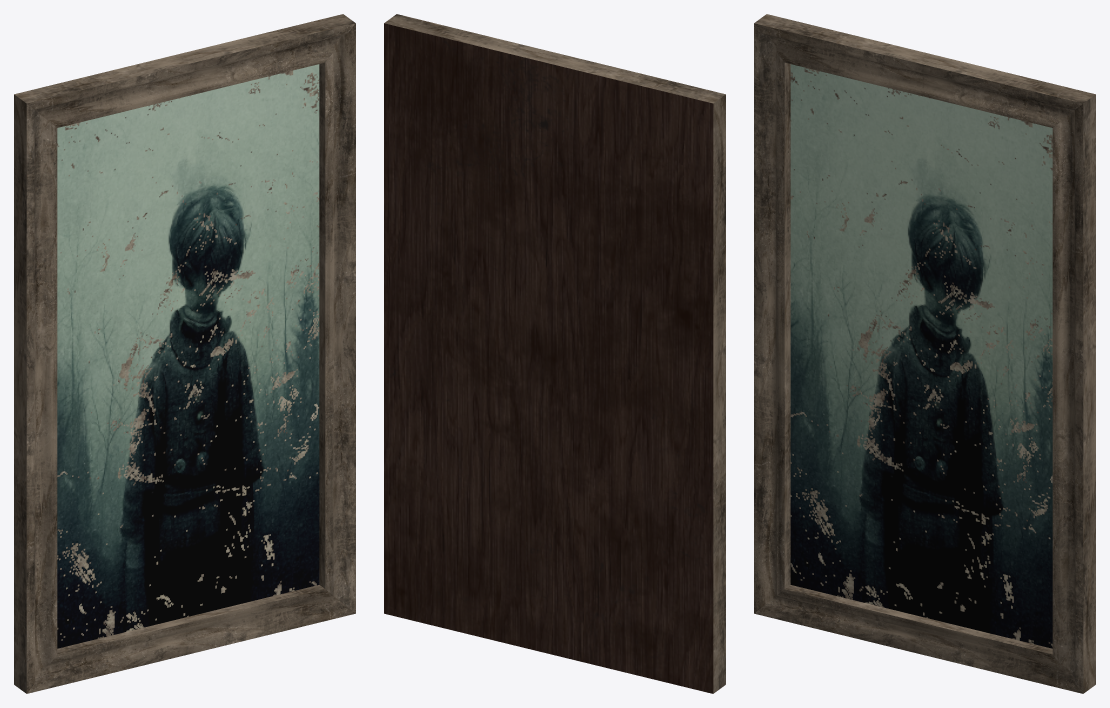
The model's file is SM_Painting_03.fbx.
3 views of the same model, side by side, from view 1: azimuth 30°, elevation 25°; view 2: azimuth 150°, elevation 25°; view 3: azimuth 330°, elevation 25° (orthographic).
Visible parts, largest first — view 1: SM_Painting_03; view 2: SM_Painting_03; view 3: SM_Painting_03.
Part boxes in pixels (x1,y1,x2,y2): SM_Painting_03: (14, 14, 355, 693); SM_Painting_03: (384, 14, 725, 693); SM_Painting_03: (754, 14, 1095, 693).
Bounding box in the file's own units: 107 × 183 × 7.1.
